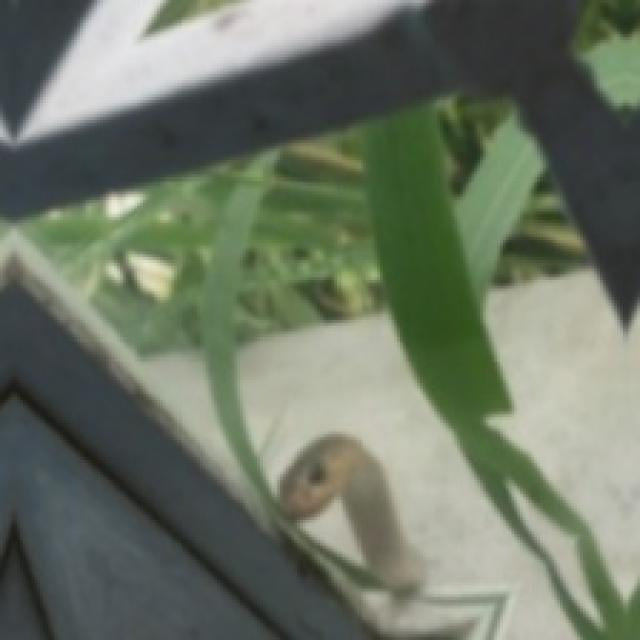philippine cobra: (280, 434, 420, 594), (280, 434, 420, 591)
